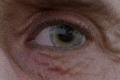eye: (51, 25, 81, 47)
